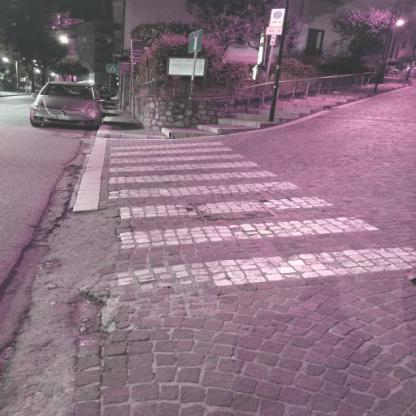crosswalk: (106, 179, 338, 221), (108, 146, 250, 167)
